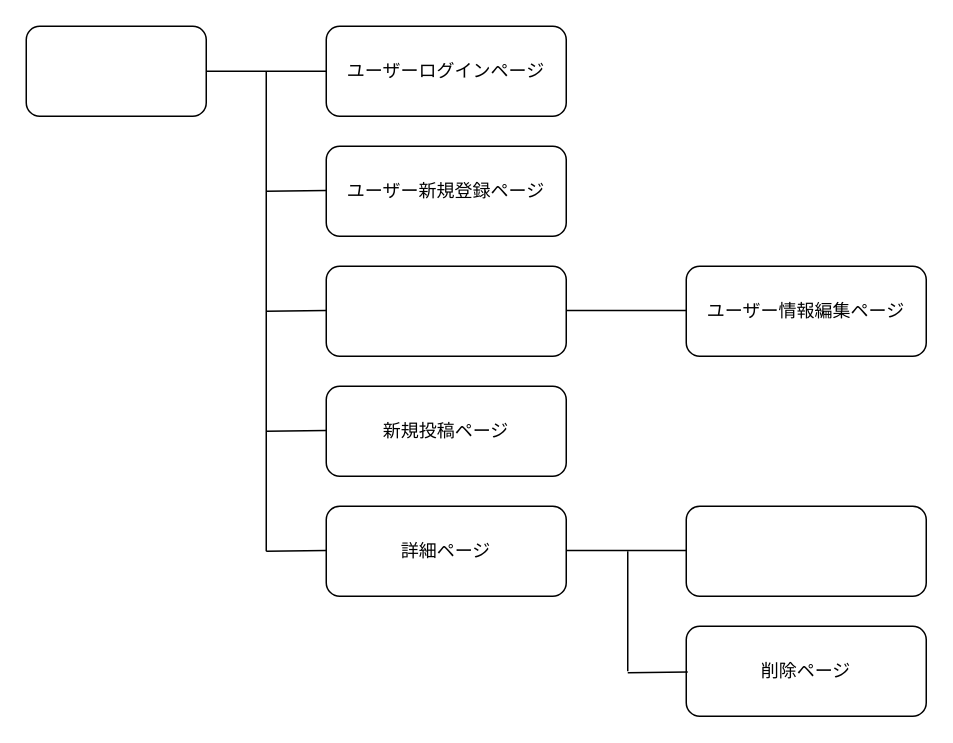
Some shapes in this 953 by 743 pixel diagram are drawn without their labels. The centre of each missing label's shape, as x and y in pixels:
ユーザーマイページ: the point at 445,310
一覧ページ: the point at 115,70
編集ページ: the point at 805,550
